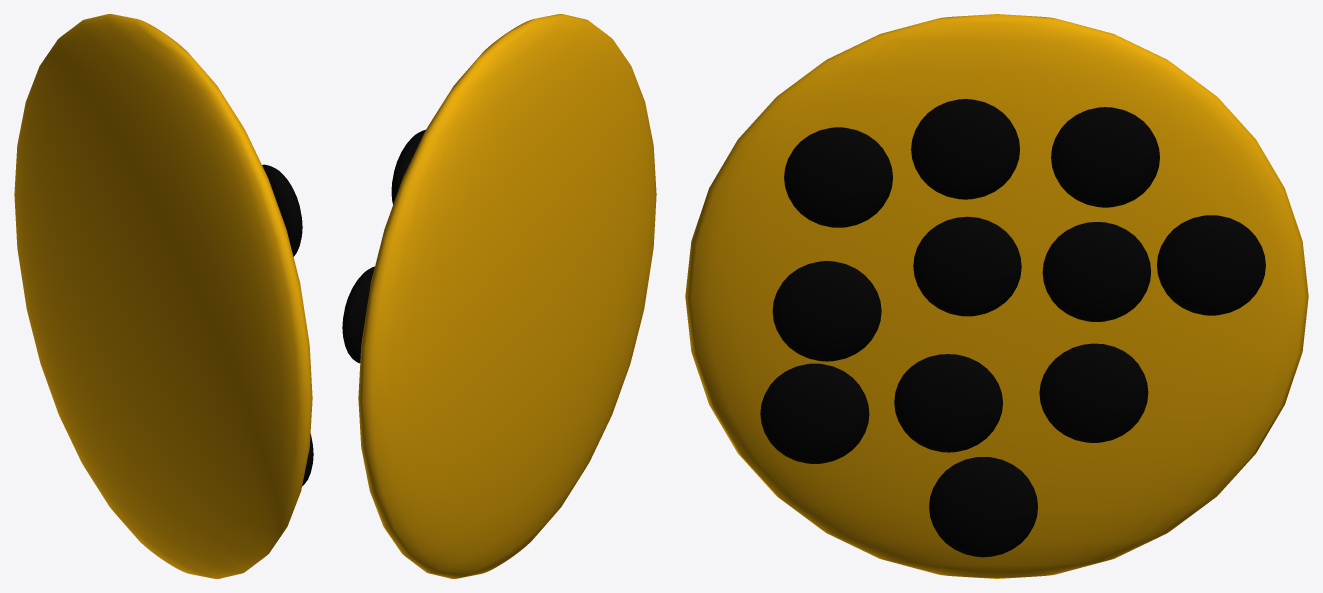
The model's file is cookie.fbx.
The picture shows the model from 3 angles, left to right: view 1: azimuth 30°, elevation 25°; view 2: azimuth 150°, elevation 25°; view 3: azimuth 270°, elevation 25°; orthographic projection. The views are drawn at different scales.
Parts seen in each view (by area): view 1: base, Sphere.001; view 2: base, Sphere.009, Sphere.010; view 3: base, Sphere.004, Sphere.010, Sphere.002, Sphere.001, Sphere.009, Sphere.008, Sphere.011, Sphere.007, Sphere.003, Sphere.006, Sphere.005.
Boxes of the visible parts, <box> form: base: <box>14,14,312,578</box>; Sphere.001: <box>262,164,302,256</box>; base: <box>358,14,656,578</box>; Sphere.009: <box>342,266,374,363</box>; Sphere.010: <box>391,129,425,204</box>; base: <box>685,14,1308,578</box>; Sphere.004: <box>772,261,881,361</box>; Sphere.010: <box>1051,107,1159,207</box>; Sphere.002: <box>911,99,1019,199</box>; Sphere.001: <box>784,127,892,227</box>; Sphere.009: <box>1157,215,1265,315</box>; Sphere.008: <box>760,363,869,463</box>; Sphere.011: <box>929,457,1037,557</box>; Sphere.007: <box>1042,222,1150,321</box>; Sphere.003: <box>913,216,1021,316</box>; Sphere.006: <box>1039,343,1148,442</box>; Sphere.005: <box>894,354,1002,452</box>.
Size of the model in its own units: 35.96 by 200 by 200.
